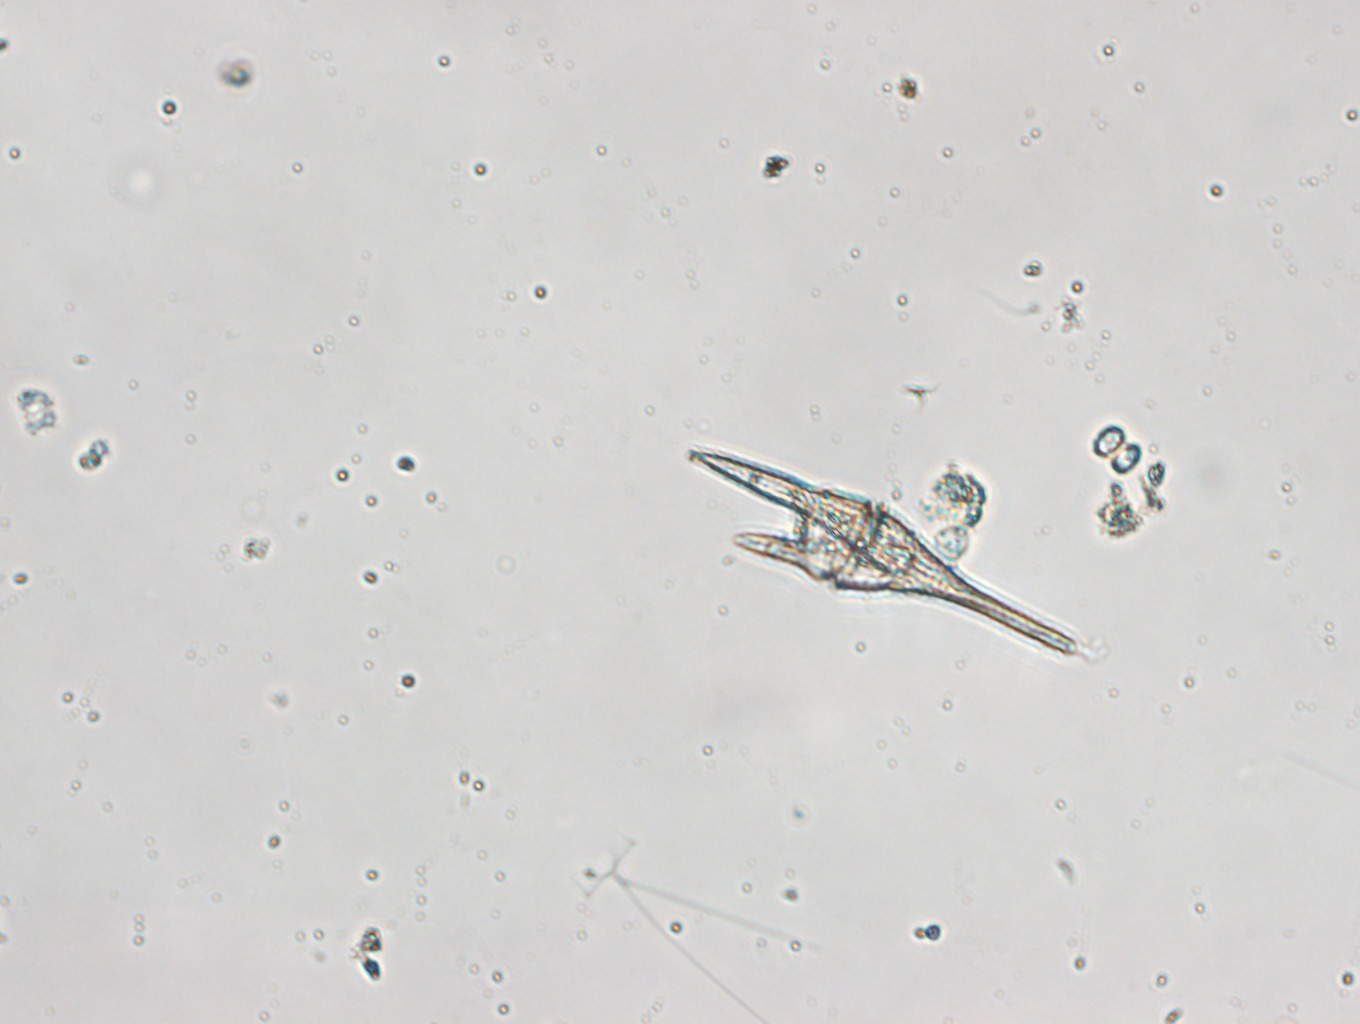ceratium furca: (686, 444, 1080, 656)
